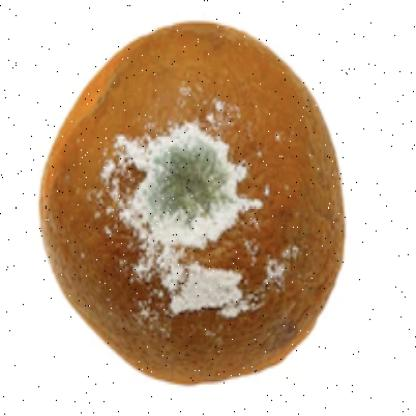rotten: (40, 20, 343, 387)
